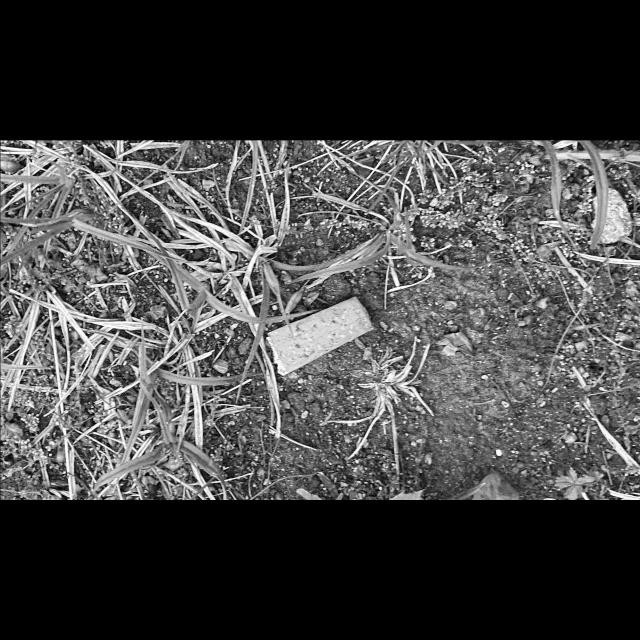cigarette: (264, 294, 375, 377)
